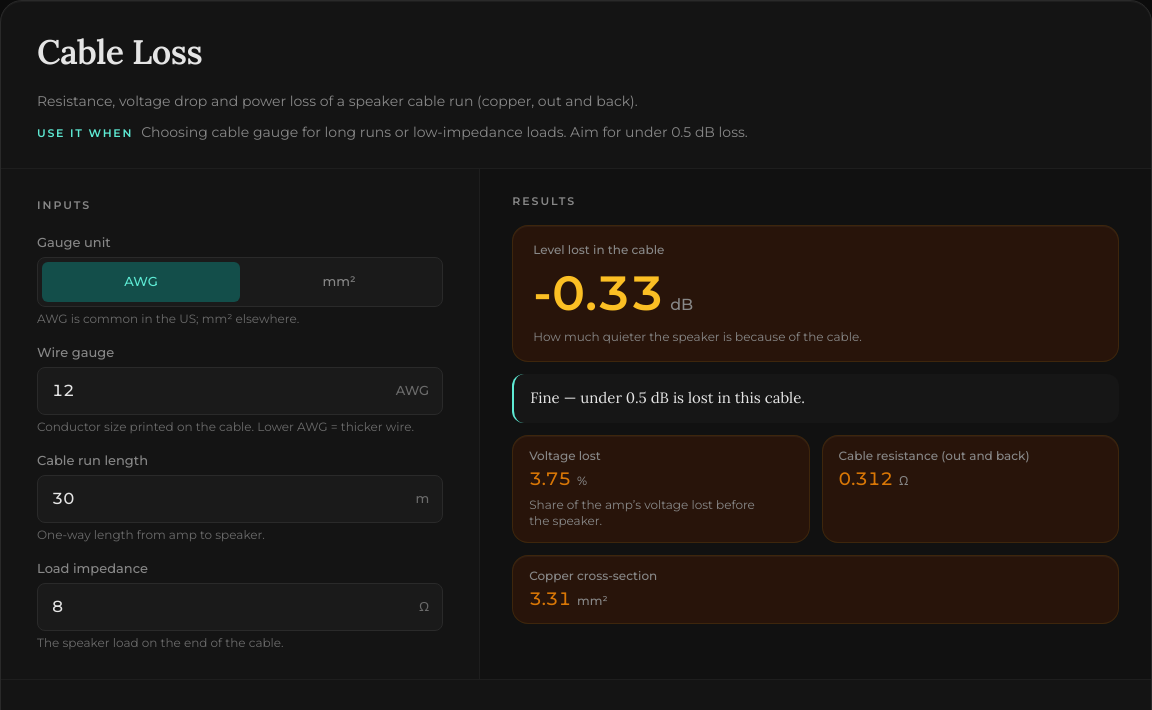
calculator interactions › zero-length cable shows zero loss and no NaN
The image size is (1152, 710).
Replace the text in the field labelled "Cable run length" with "0" at {"x": 240, "y": 499}, box [37,475,443,523]
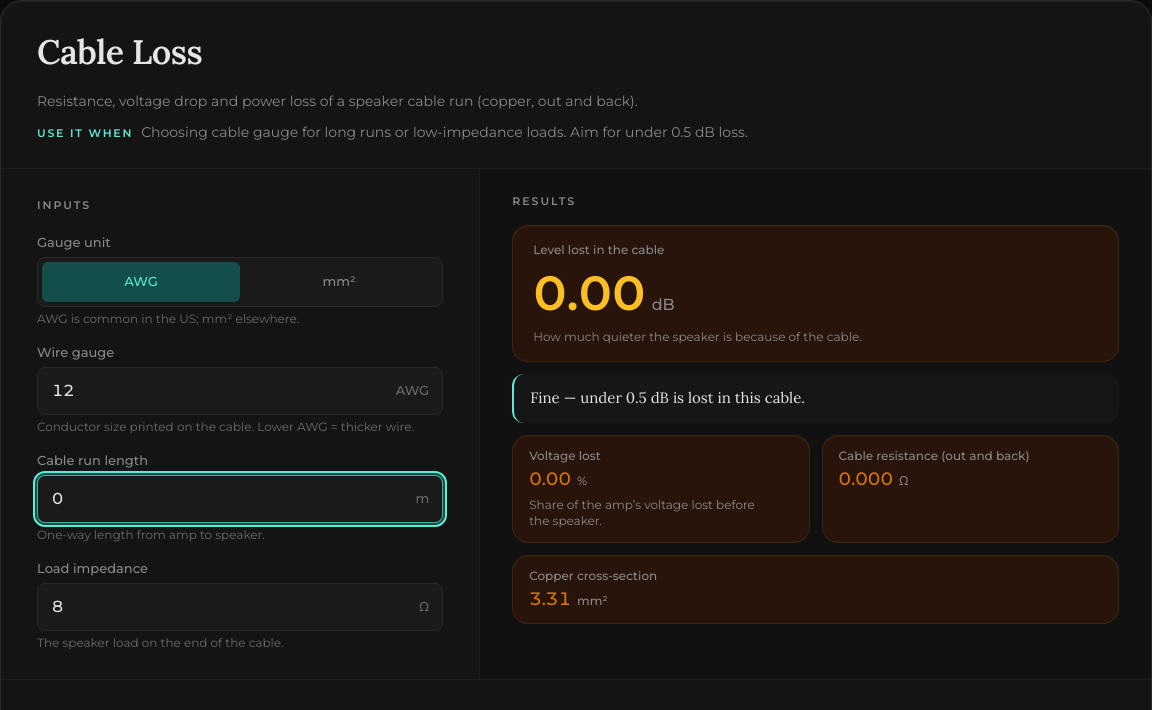
Expected: the element with test id "output-value" reads "0.00 dB", [533,264,675,322]
